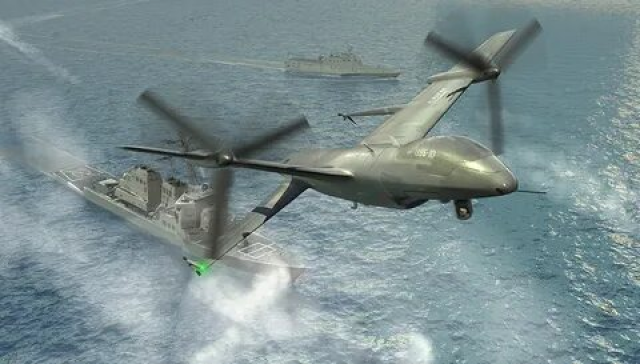military drone: (114, 16, 547, 276)
